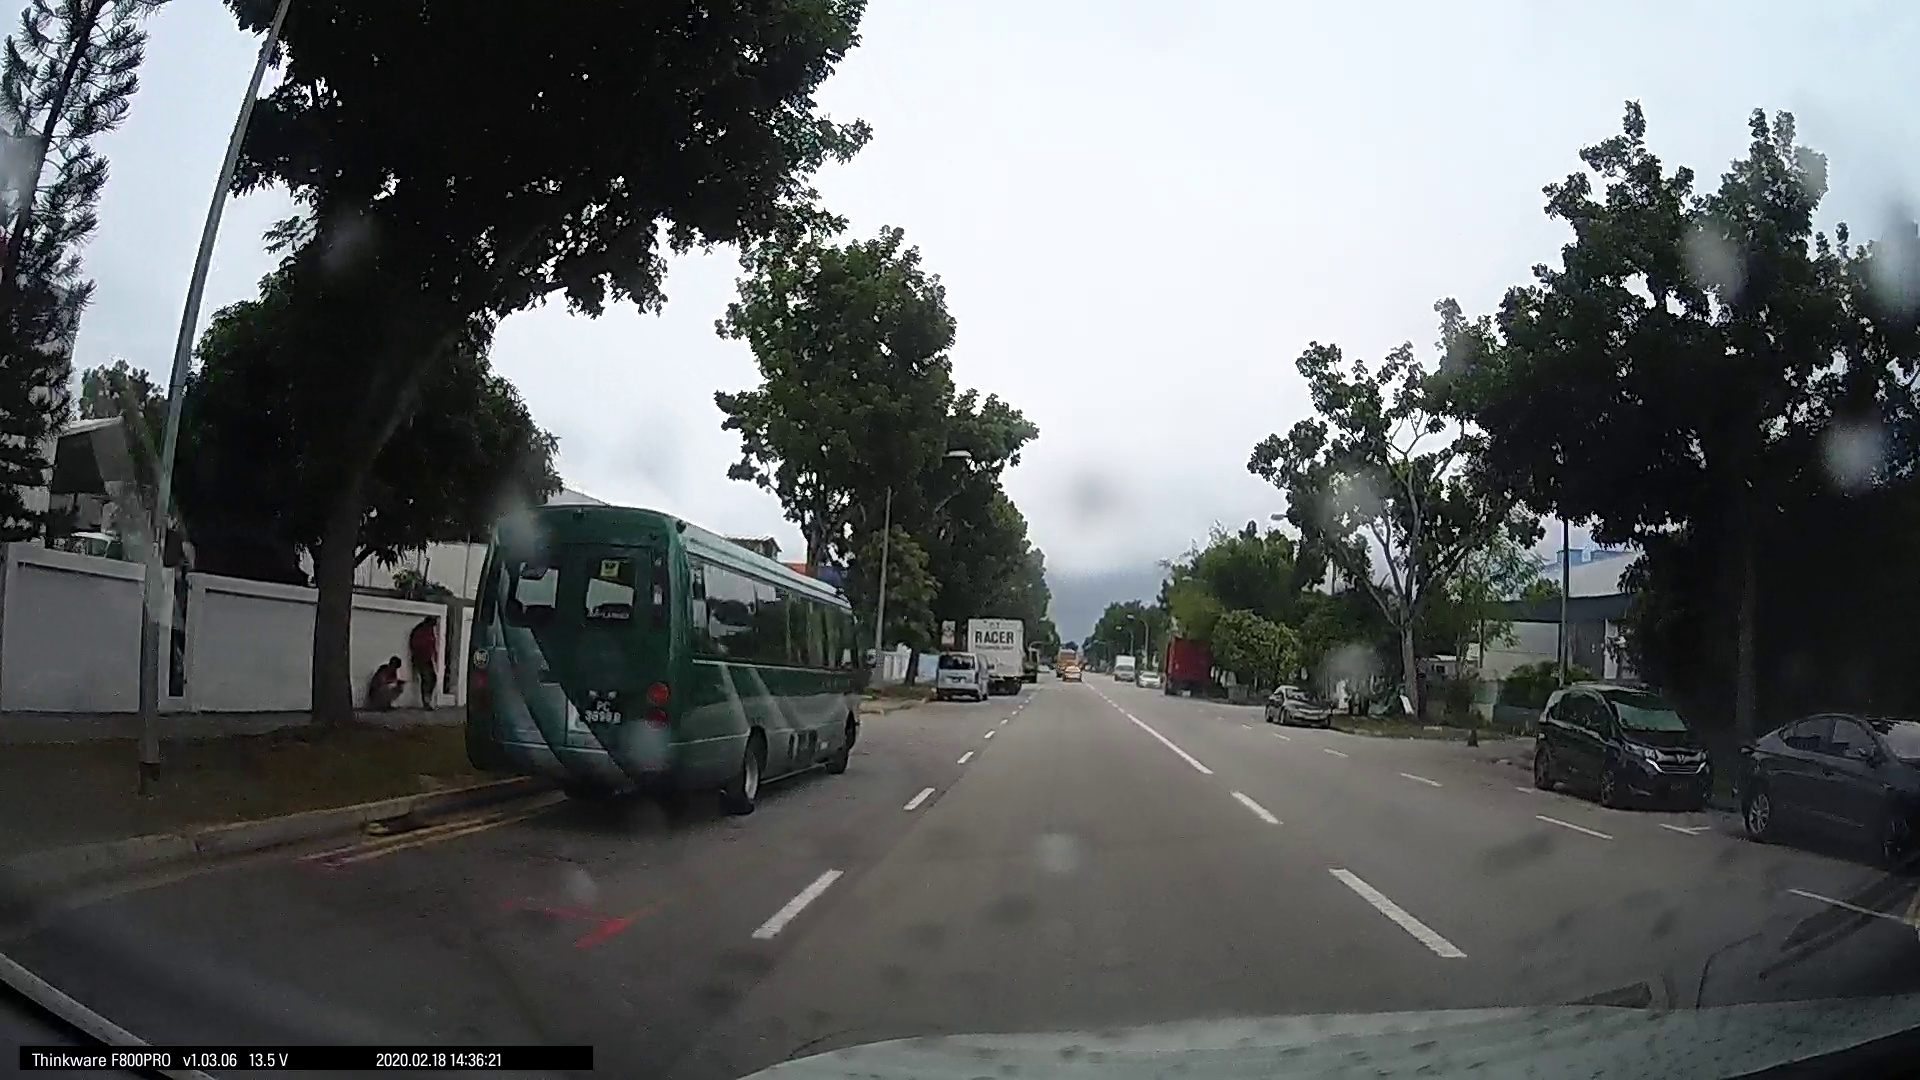Heavy Vehicle: (454, 508, 861, 827), (947, 611, 1031, 695)
Light Vehicle: (1729, 700, 1919, 862), (1520, 676, 1714, 814), (930, 647, 994, 702), (1265, 680, 1333, 729)
